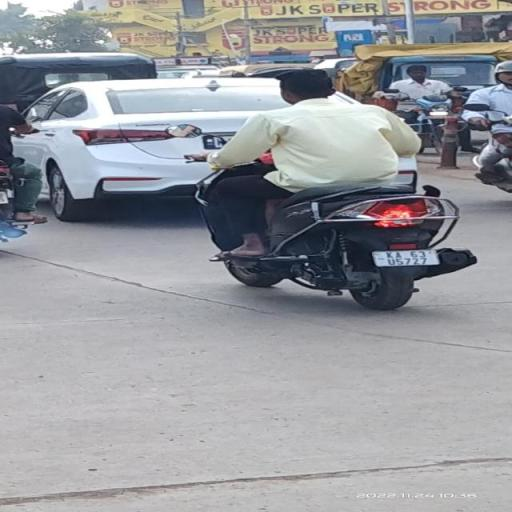bike: (171, 57, 475, 316)
numberplate: (372, 249, 444, 268)
withouthelmet: (280, 72, 332, 102)
